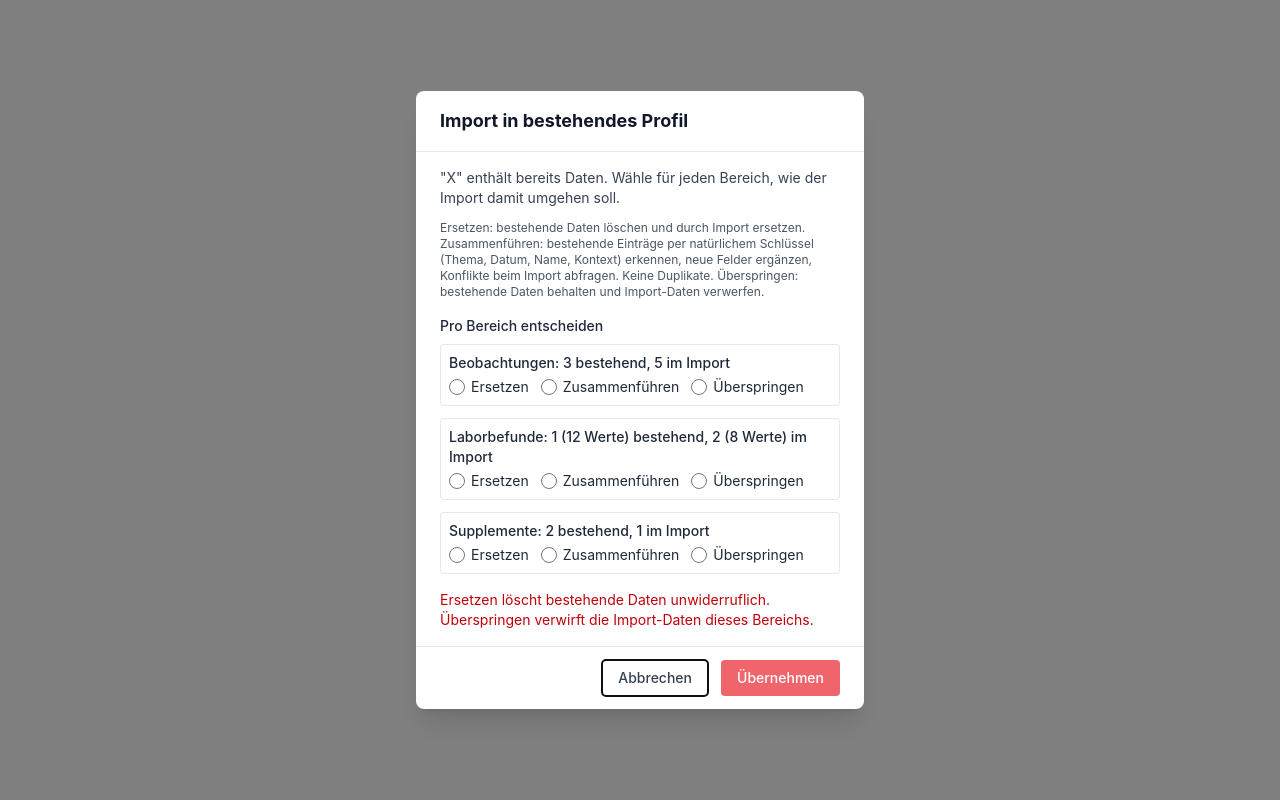
Test: ConfirmDialog (IM-05 Option B) › S2-A all-skip discipline: confirm disabled + hint shown when every row is Überspringen
Note: Pick skip for every visible row.
Click the radio button with test id "confirm-row-observations-skip": (699, 387) [691,379,707,395]
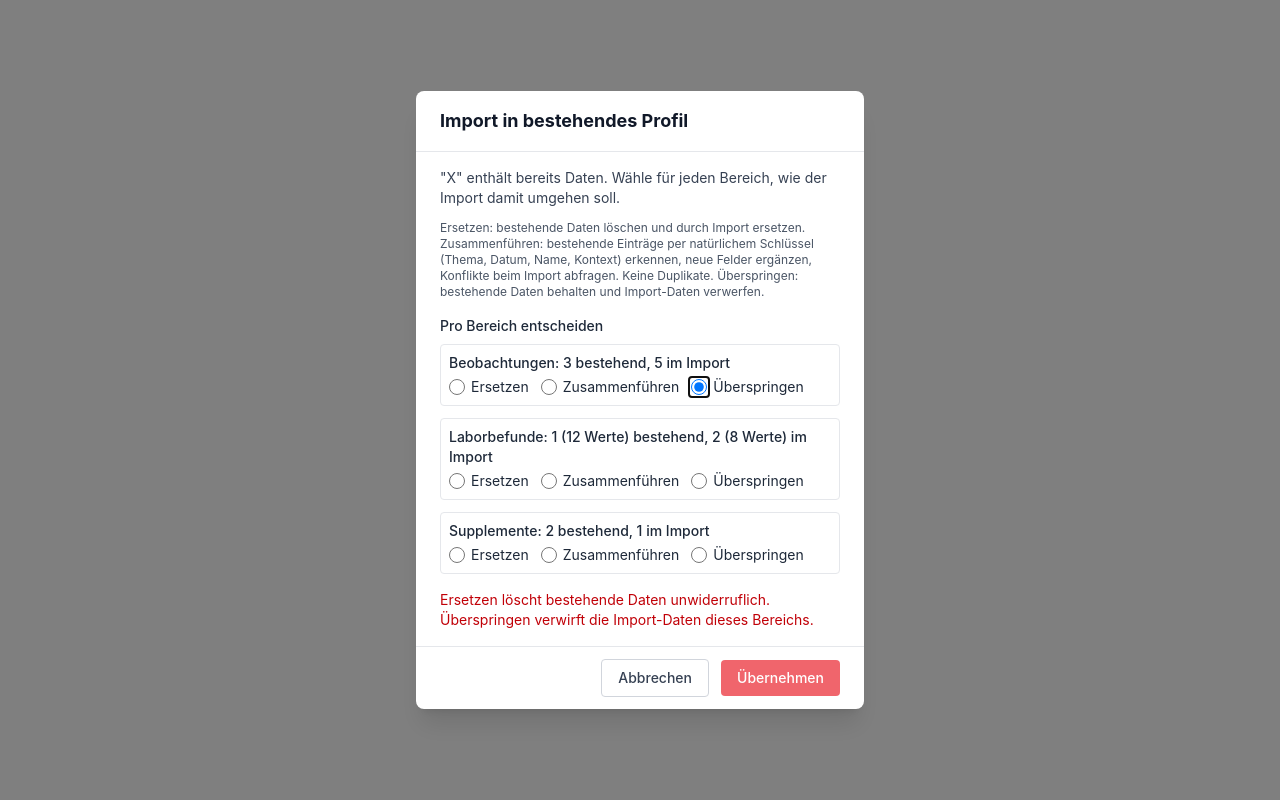
Click the radio button with test id "confirm-row-labData-skip": (699, 481) [691,473,707,489]
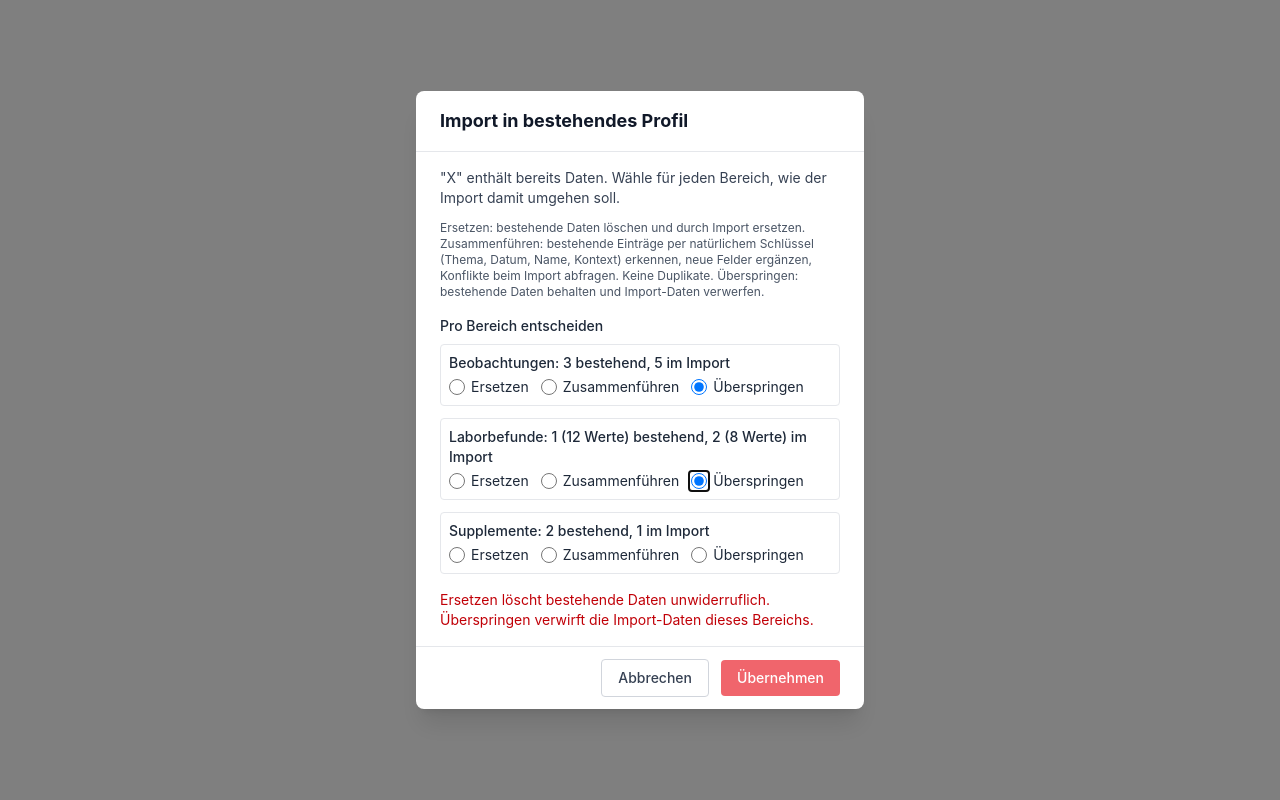
Click the radio button with test id "confirm-row-supplements-skip": (699, 555) [691,547,707,563]
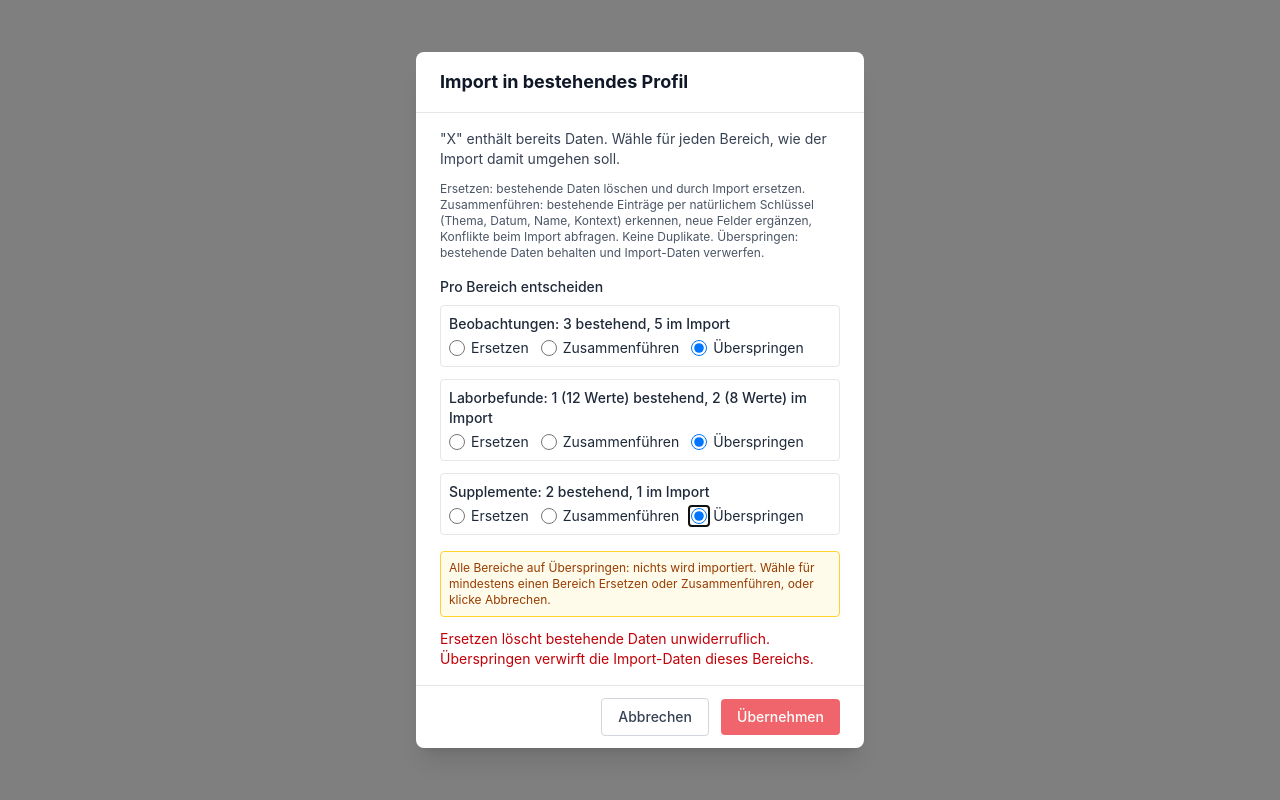
Expected: the button "Übernehmen" is disabled, [721,699,840,735]
Expected: the text with test id "confirm-all-skip-hint" is shown, [440,551,840,617]
Note: Switching one row to merge re-enables Übernehmen and hides the hint.
Click the radio button with test id "confirm-row-supplements-merge": (549, 516) [541,508,557,524]
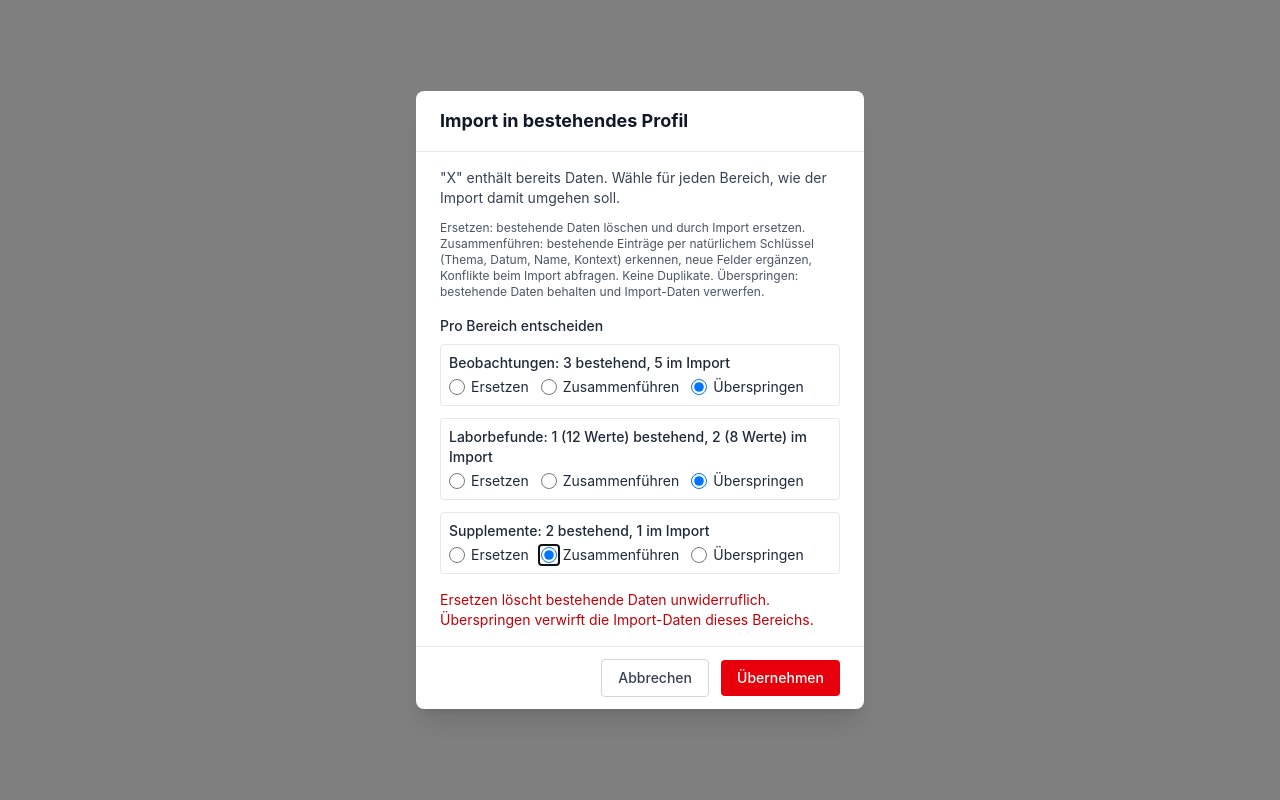
Expected: the text with test id "confirm-all-skip-hint" is gone
Expected: the button "Übernehmen" is enabled, [721,660,840,696]
